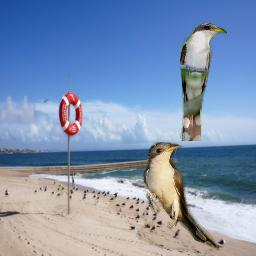Cuckoo: (143, 142, 220, 254), (179, 22, 227, 141)
